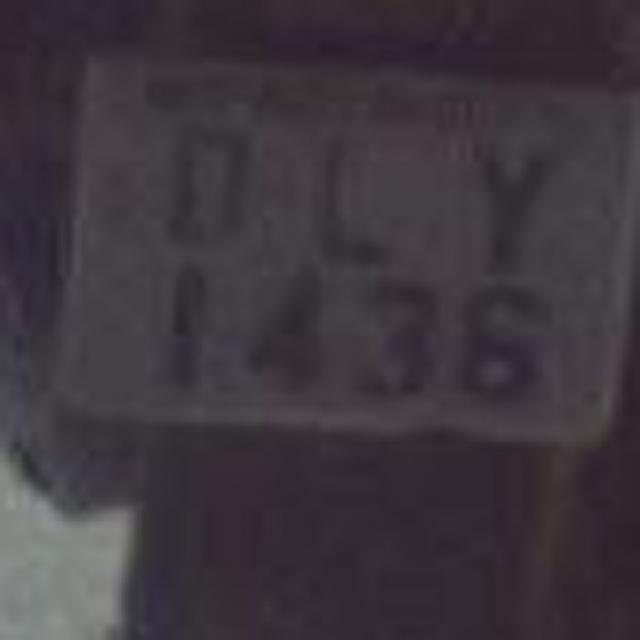1: (124, 240, 231, 412)
3: (332, 249, 456, 416)
4: (232, 244, 352, 411)
6: (436, 255, 564, 420)
J: (280, 124, 420, 268)
Y: (436, 116, 569, 269)
